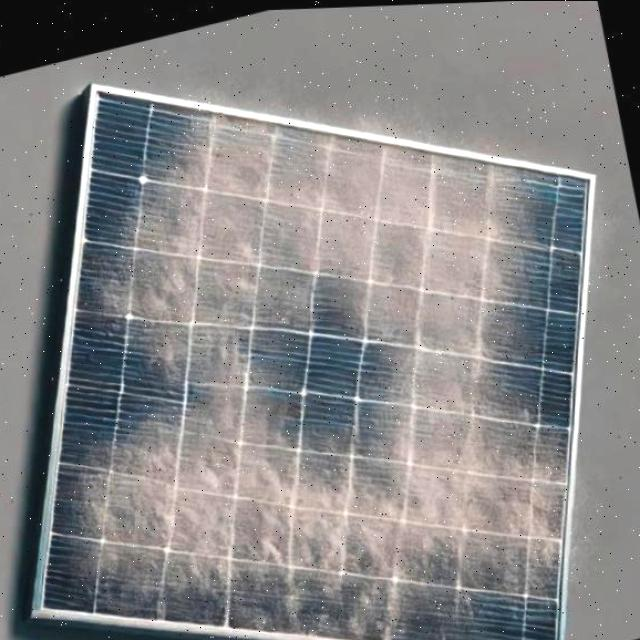Anomaly Solar Panel: (13, 84, 634, 640)
Surface Contaminant: (39, 96, 631, 640)
